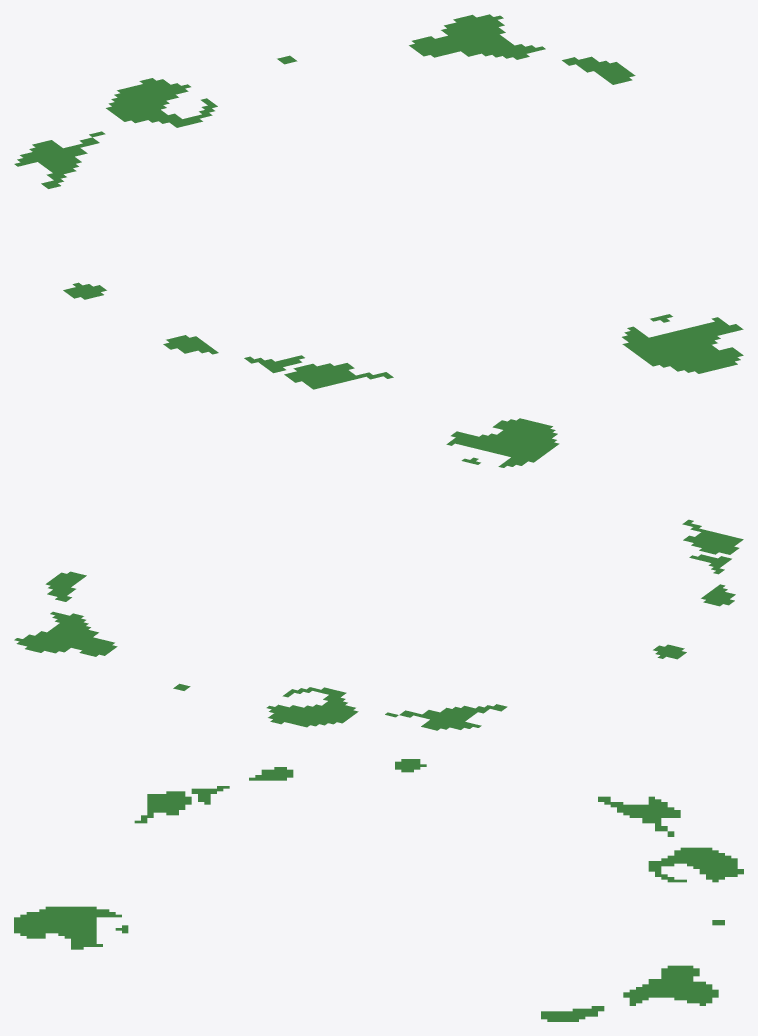
File: Isl-atoll3-TreesArea.fbx
The picture shows the model from 3 angles, top to bottom: view 1: azimuth 30°, elevation 25°; view 2: azimuth 150°, elevation 25°; view 3: azimuth 270°, elevation 25°; orthographic projection. The views are drawn at different scales.
Visible parts, largest first — view 1: Isl-atoll3-TreesArea; view 2: Isl-atoll3-TreesArea; view 3: Isl-atoll3-TreesArea.
Part boxes in pixels (x1,y1,x2,y2): Isl-atoll3-TreesArea: (14,14,743,389); Isl-atoll3-TreesArea: (14,418,743,730); Isl-atoll3-TreesArea: (14,759,743,1021).
Bounding box in the file's own units: 98 × 0 × 115.
